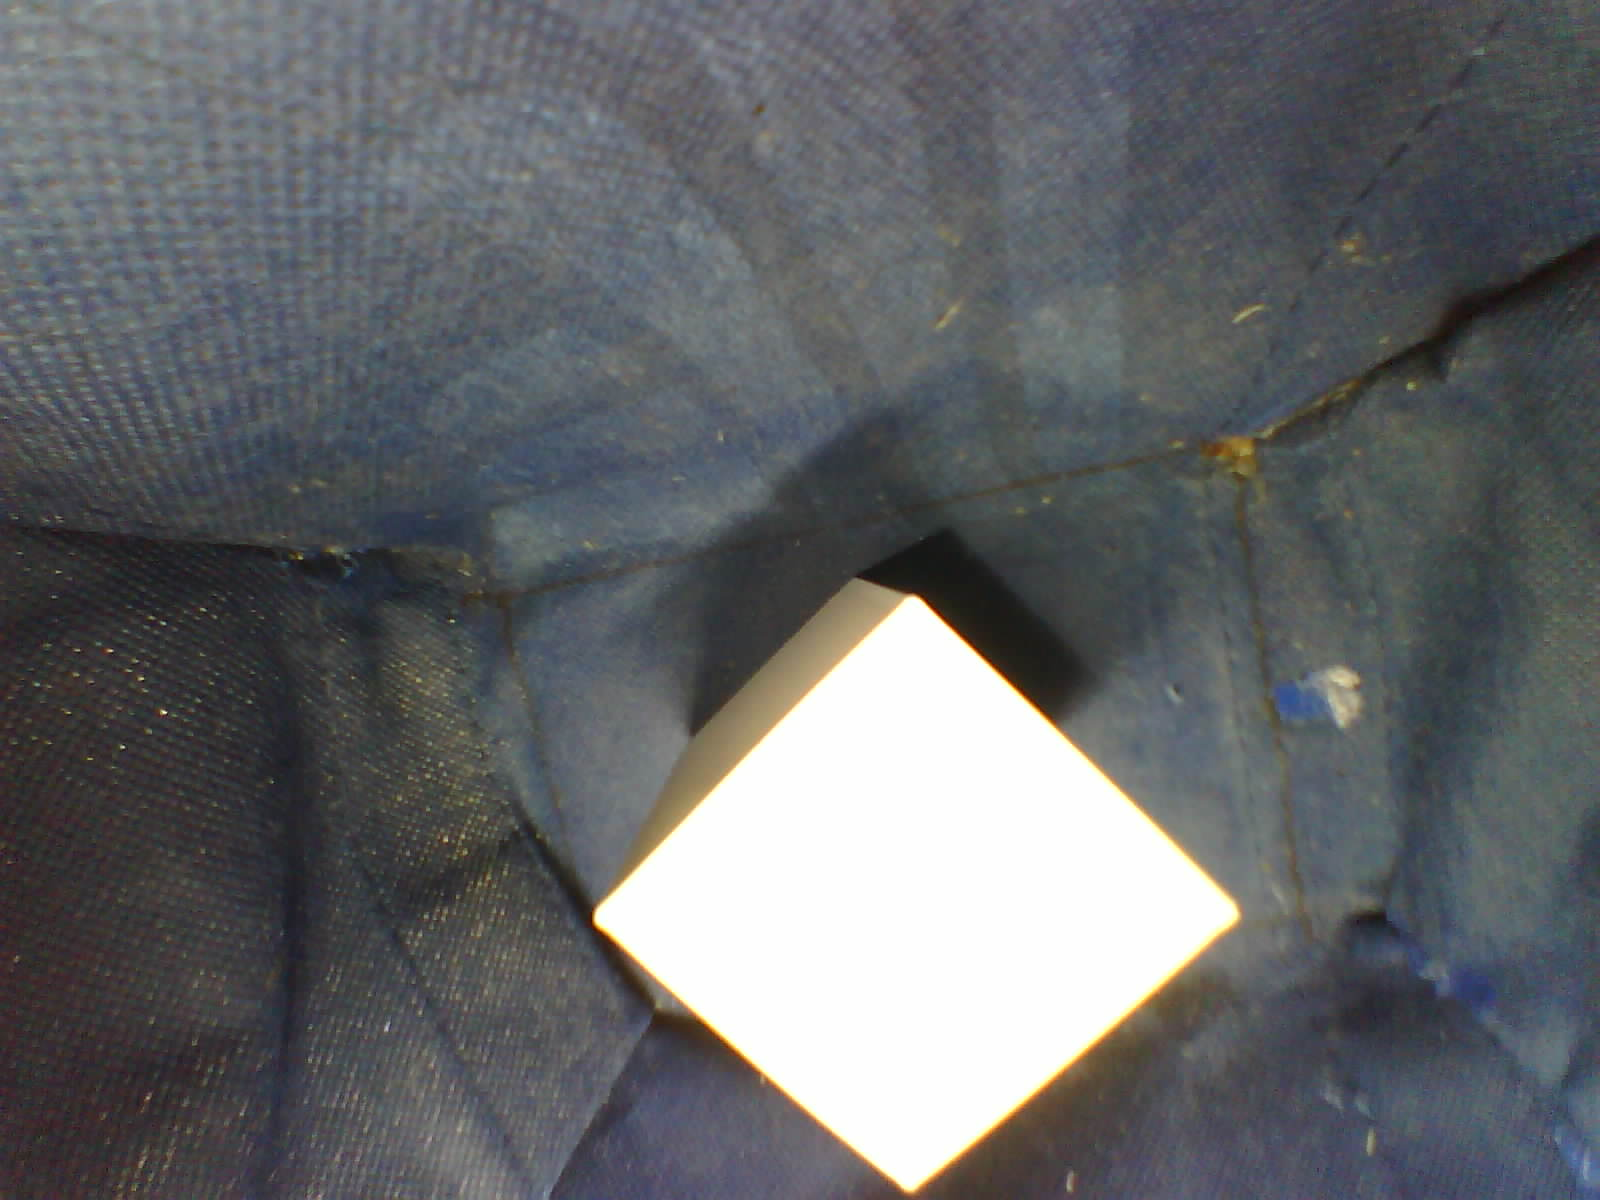cube-hard: (538, 546, 1245, 1200)
